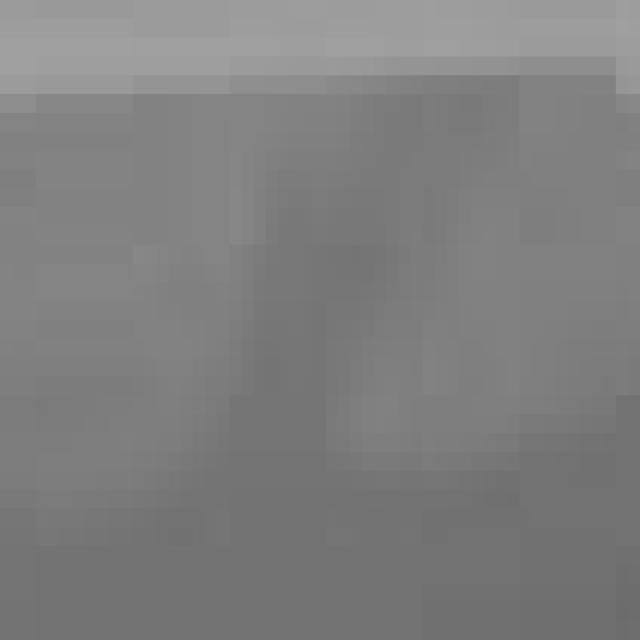fracture: (0, 5, 639, 640)
